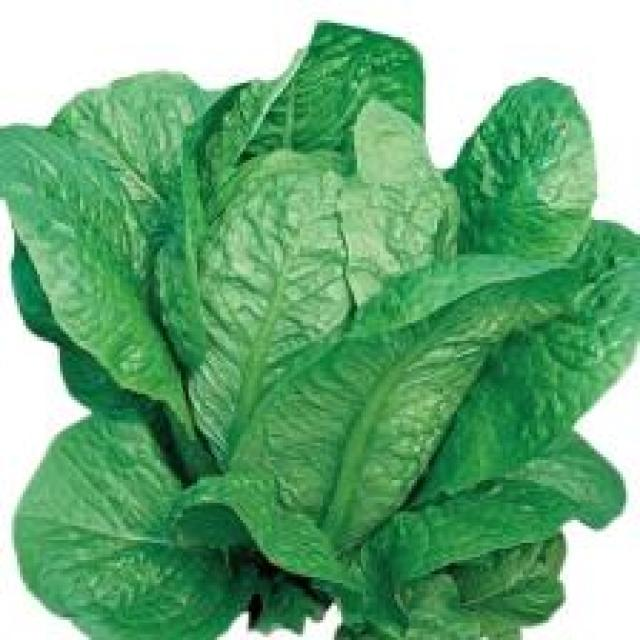Lettuce: (9, 17, 637, 640)
